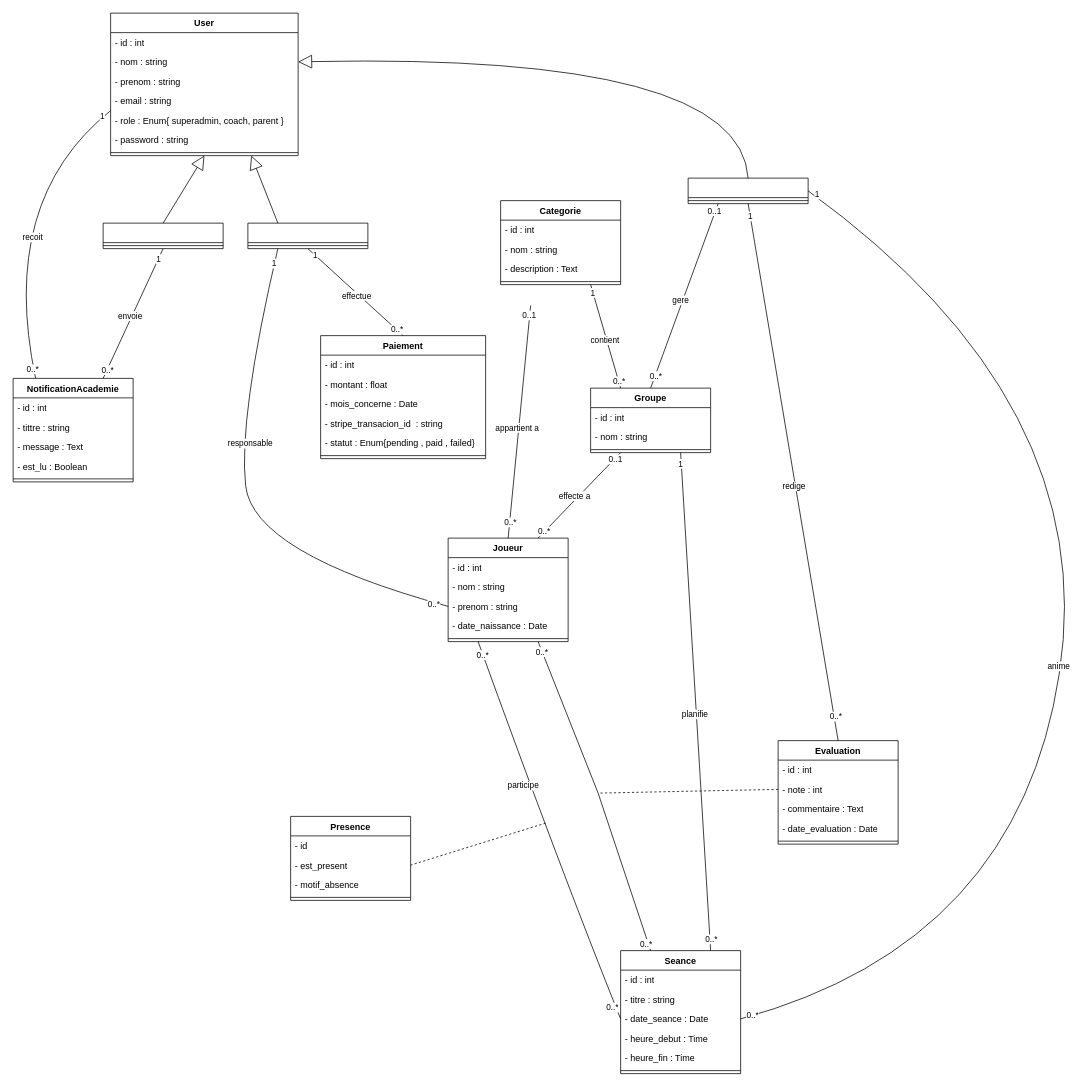
Some shapes in this 1083 by 1087 pixel diagram are drawn without their labels. The centre of each missing label's shape, as x and y in pixels:
Admin: point 162,235
Coach: point 747,190
Parent: point 307,235
